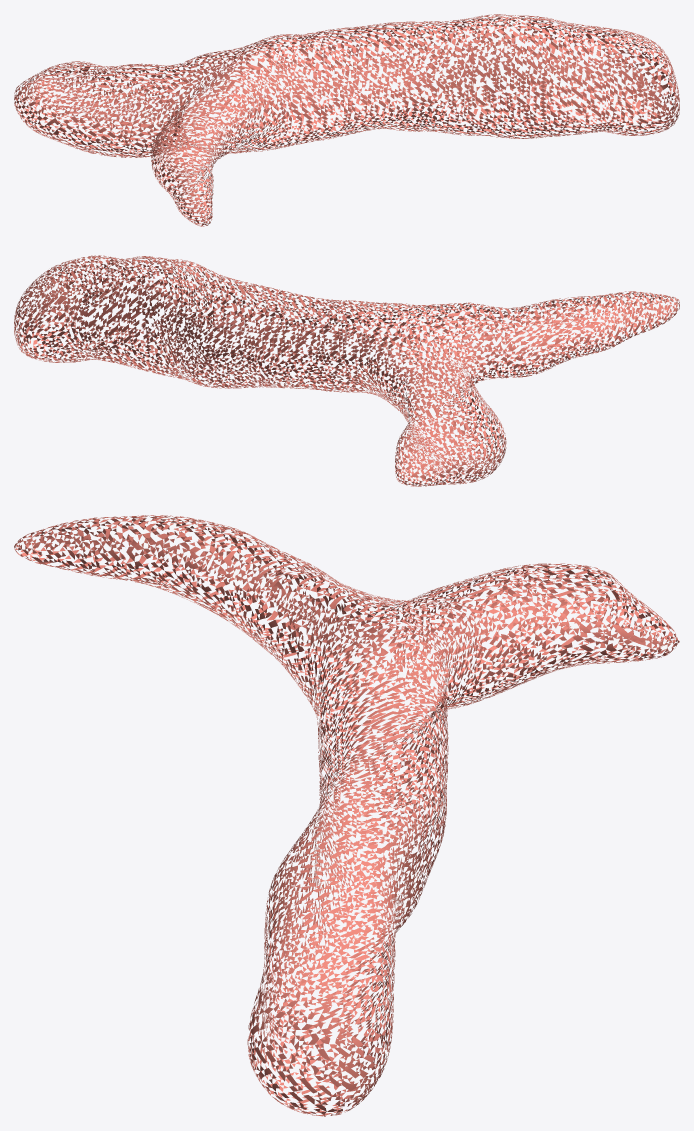
The model's file is diseased.glb.
The picture shows the model from 3 angles, top to bottom: view 1: azimuth 30°, elevation 25°; view 2: azimuth 150°, elevation 25°; view 3: azimuth 270°, elevation 25°; orthographic projection. The views are drawn at different scales.
Size of the model in its own units: 112 by 28.81 by 75.42.
